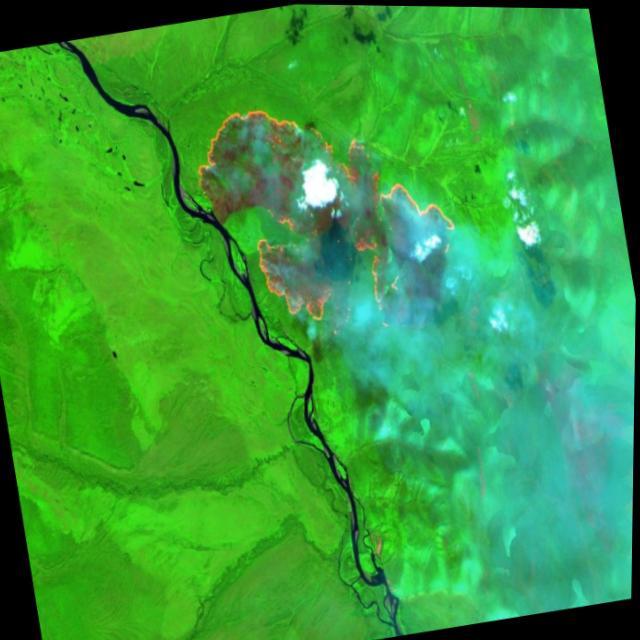fire: (184, 74, 475, 358)
